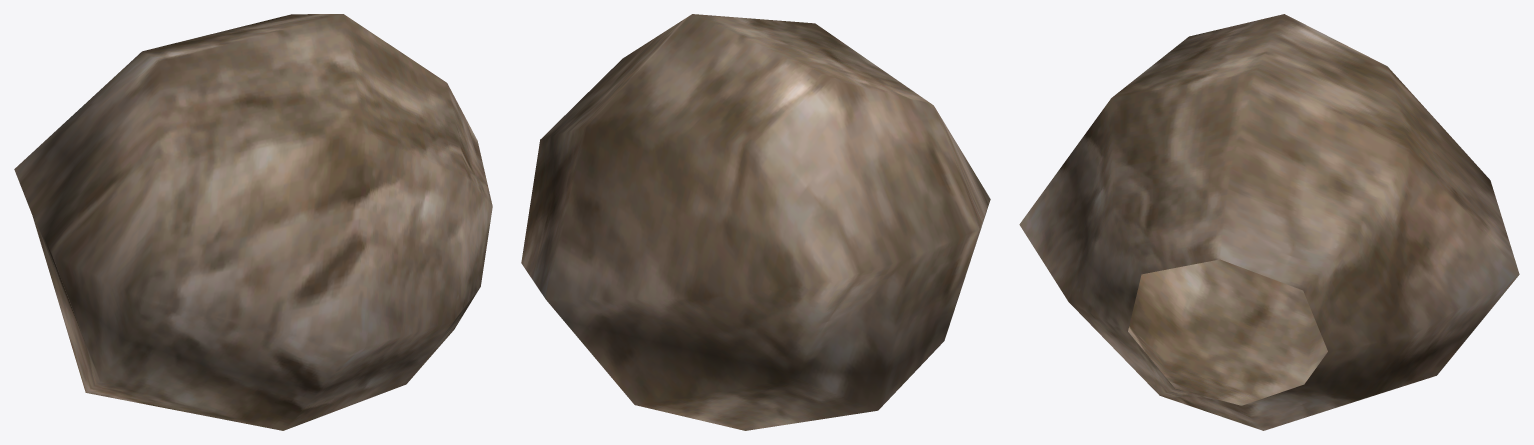
File: OVERHILL_A_01_ROCK74.fbx
3 renders of one model, left to right at view 1: azimuth 30°, elevation 25°; view 2: azimuth 150°, elevation 25°; view 3: azimuth 270°, elevation 25°, orthographic. The views are drawn at different scales.
Visible parts, largest first — view 1: OVERHILL_A_01_ROCK74; view 2: OVERHILL_A_01_ROCK74; view 3: OVERHILL_A_01_ROCK74.
Boxes of the visible parts, x1,y1,x2,y2 form: OVERHILL_A_01_ROCK74: [14, 14, 492, 430]; OVERHILL_A_01_ROCK74: [521, 14, 990, 430]; OVERHILL_A_01_ROCK74: [1019, 14, 1519, 430].
Bounding box in the file's own units: 7053 × 6349 × 7554.
1 material, 1 textured.
